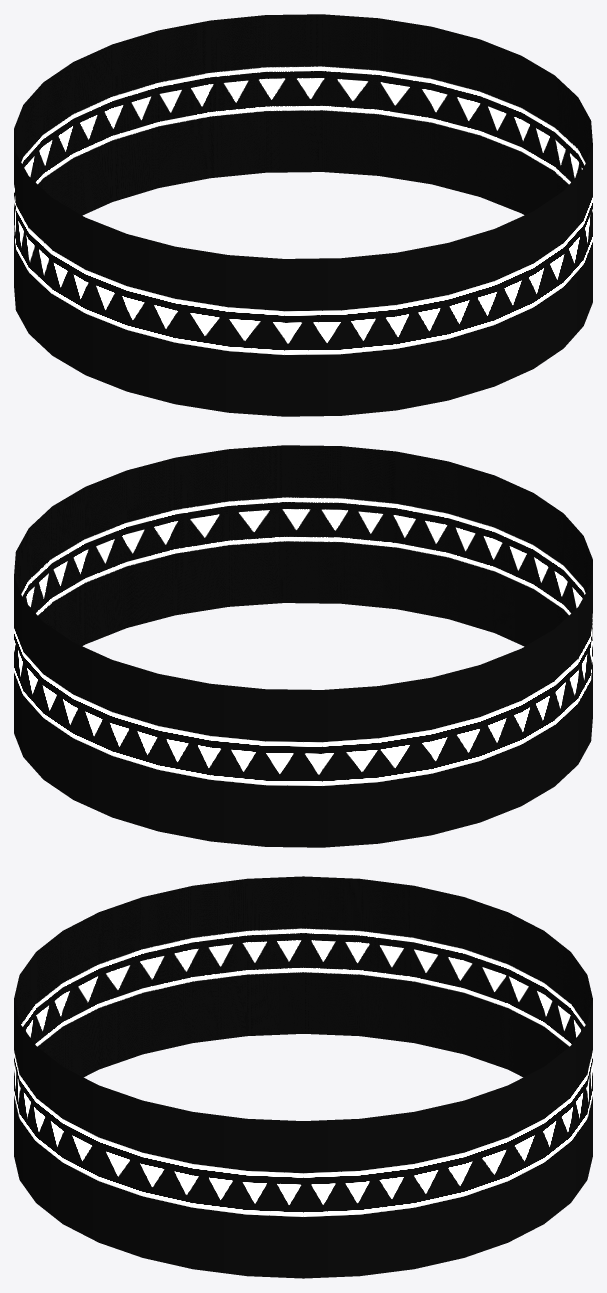
Rendered from Multiplier.glb.
3 views of the same model, one above another, from view 1: azimuth 30°, elevation 25°; view 2: azimuth 150°, elevation 25°; view 3: azimuth 270°, elevation 25° (orthographic).
Parts seen in each view (by area): view 1: Multiplier test.004, Multiplier test.003; view 2: Multiplier test.004, Multiplier test.003; view 3: Multiplier test.004, Multiplier test.003.
Part boxes in pixels (<box>): Multiplier test.004: <box>14,14,592,416</box>; Multiplier test.003: <box>14,14,592,215</box>; Multiplier test.004: <box>14,445,592,847</box>; Multiplier test.003: <box>14,445,592,646</box>; Multiplier test.004: <box>14,877,592,1278</box>; Multiplier test.003: <box>14,876,592,1077</box>.
Size of the model in its own units: 2 by 0.5999 by 2.
Materials: 2 (2 with a texture image).
